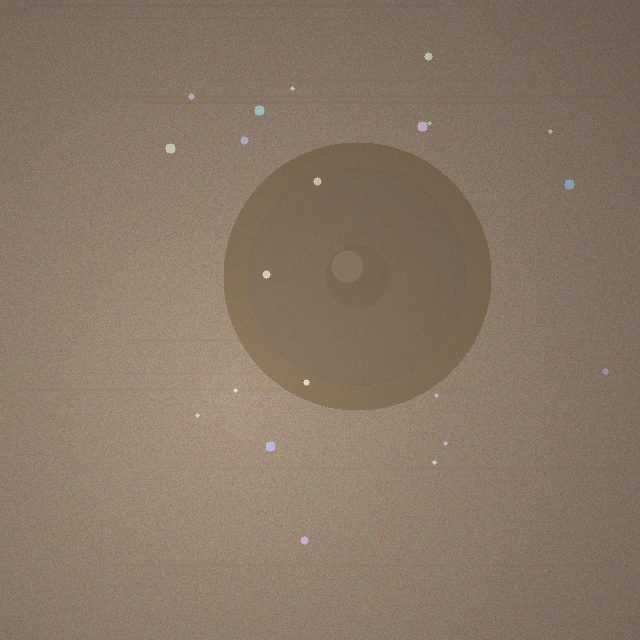overburn: (223, 142, 491, 410)
